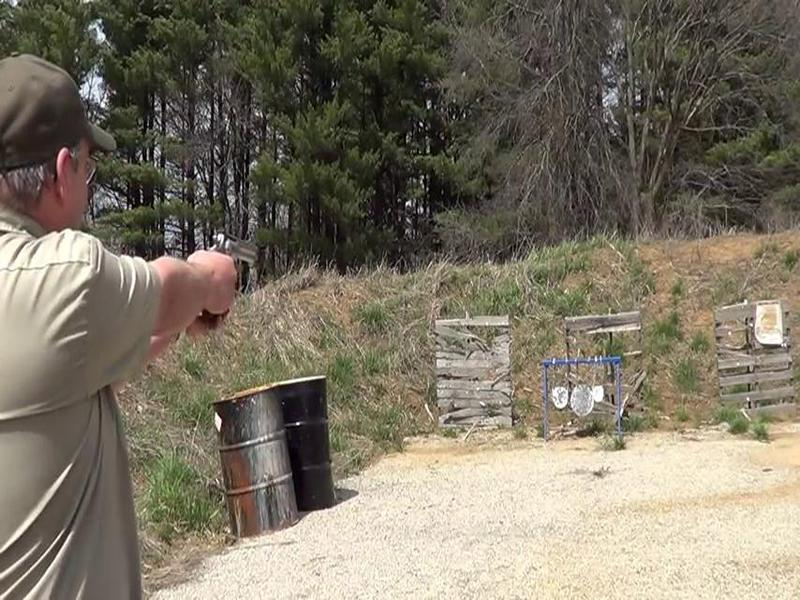Revolver: (194, 233, 281, 300)
